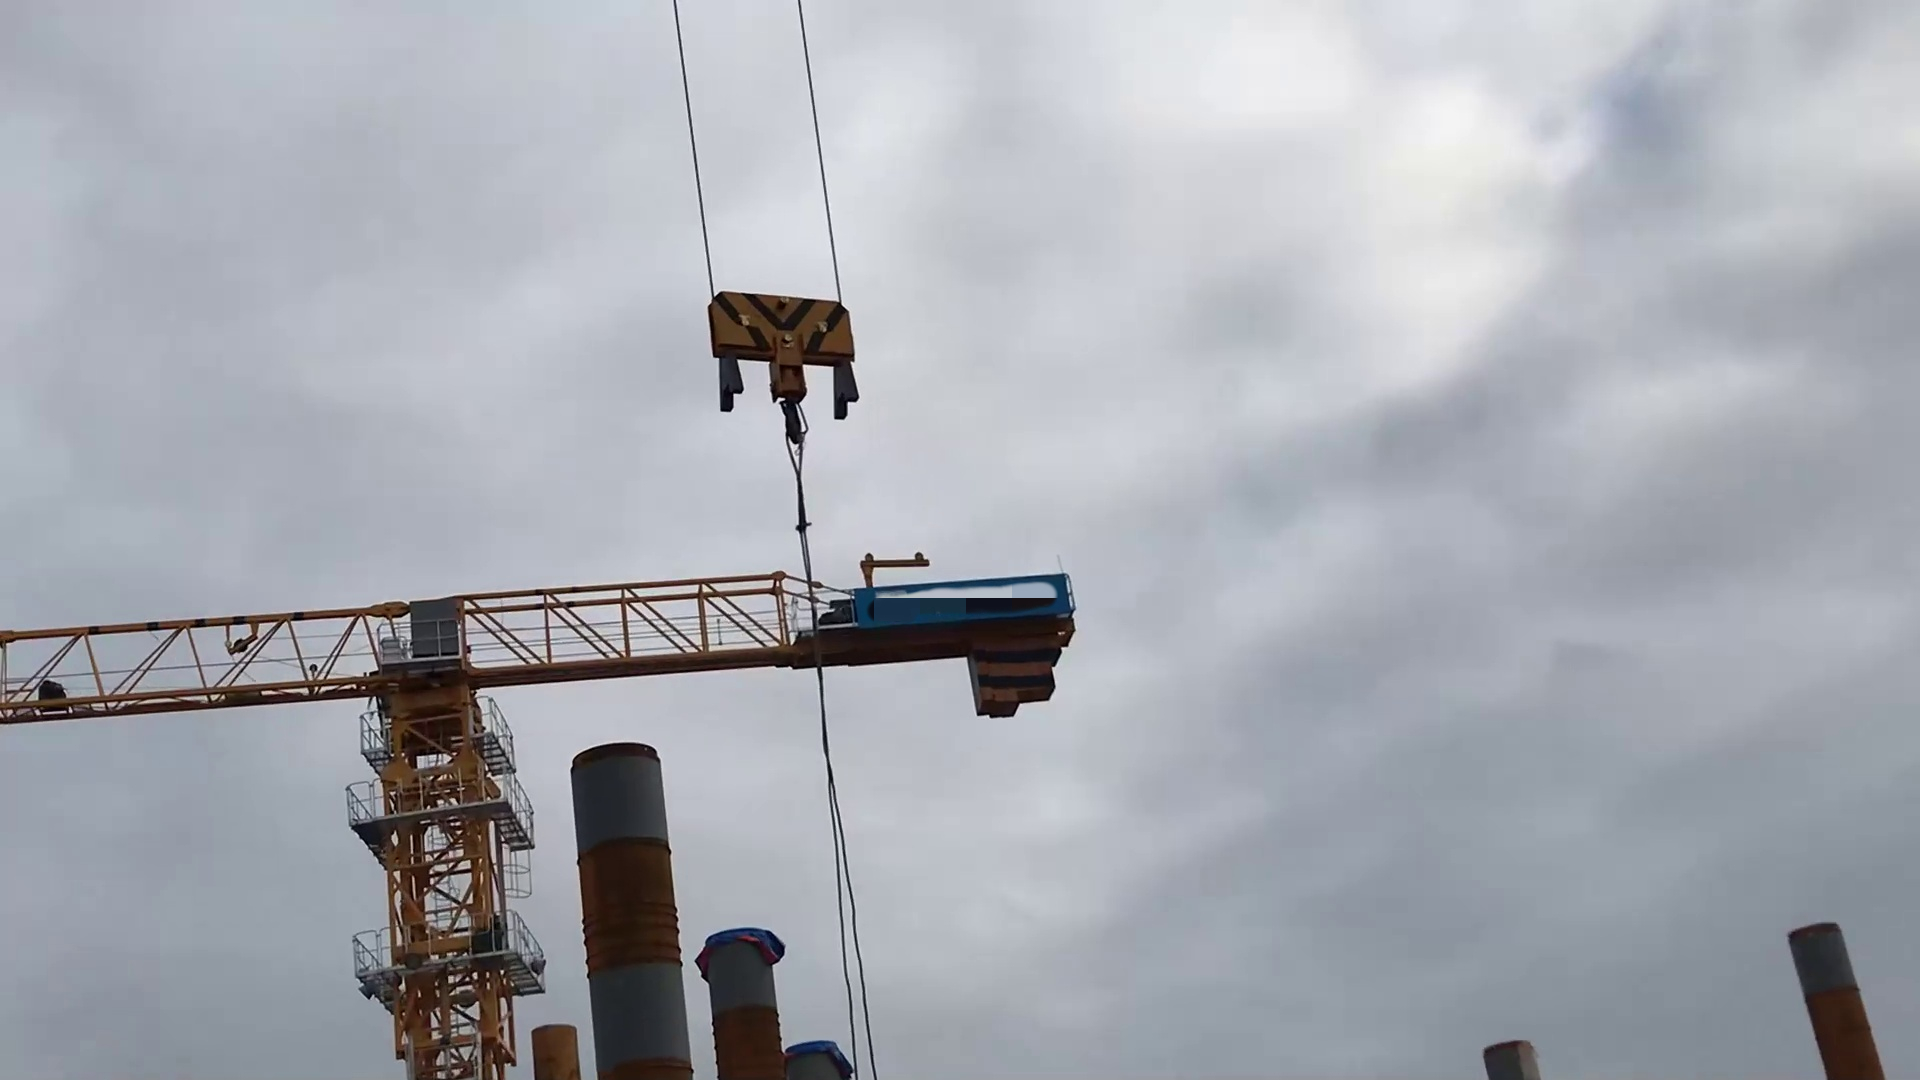hook: (688, 274, 878, 454)
